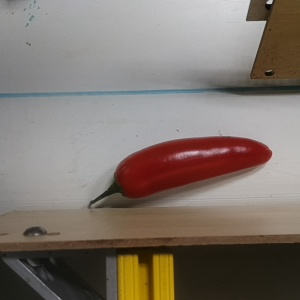Cut Point: (104, 165, 140, 201)
